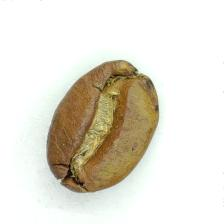NG: (58, 69, 128, 175)
